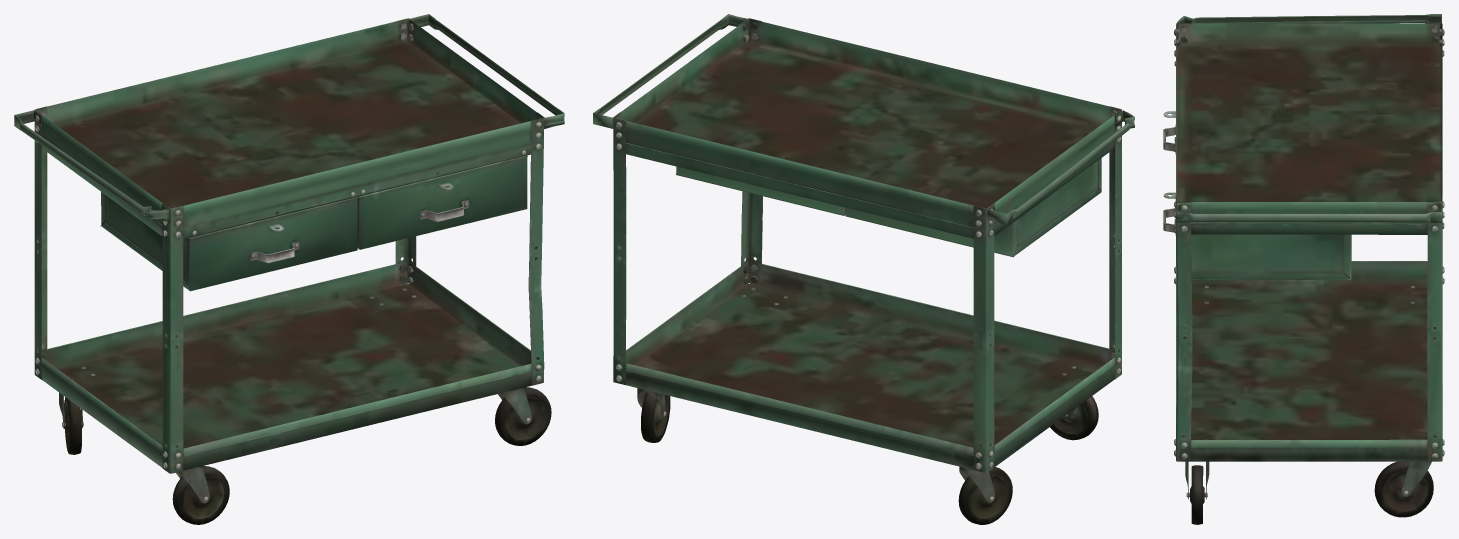
The model's file is carrello-attrezzi.glb.
The picture shows the model from 3 angles, left to right: view 1: azimuth 30°, elevation 25°; view 2: azimuth 150°, elevation 25°; view 3: azimuth 270°, elevation 25°; orthographic projection. The views are drawn at different scales.
Visible parts, largest first — view 1: tool_cart; view 2: tool_cart; view 3: tool_cart.
Boxes of the visible parts, x1,y1,x2,y2 form: tool_cart: [14, 14, 564, 524]; tool_cart: [593, 14, 1134, 524]; tool_cart: [1163, 14, 1444, 524].
Size of the model in its own units: 1.27 by 0.9653 by 0.7537.
1 material, 1 textured.
